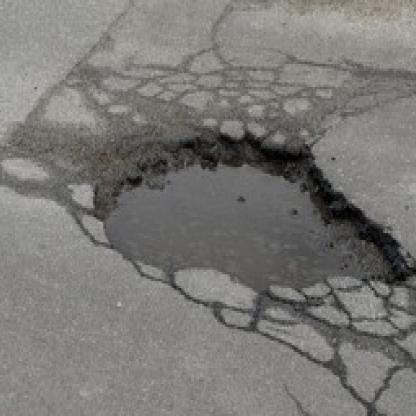pothole: (97, 135, 408, 295)
